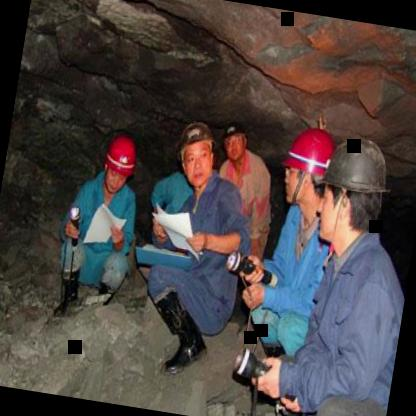helmet: (323, 137, 394, 243), (272, 119, 342, 212), (94, 126, 144, 198), (170, 118, 219, 188), (218, 112, 252, 166)
